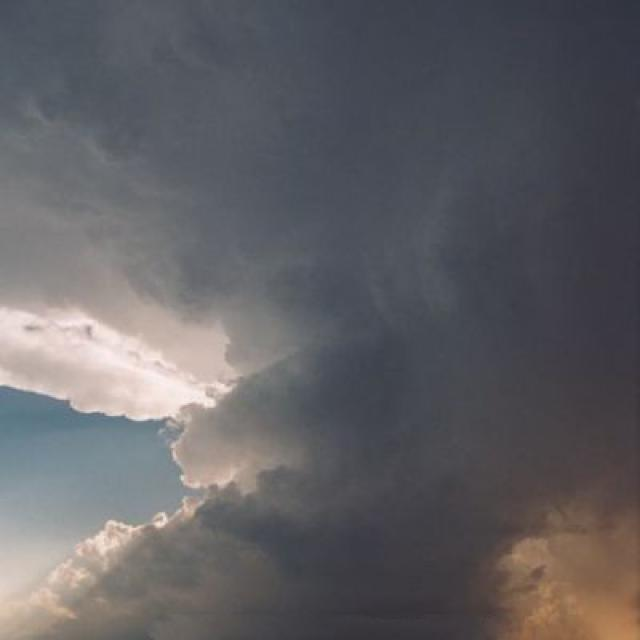Cb: (1, 49, 640, 622)
